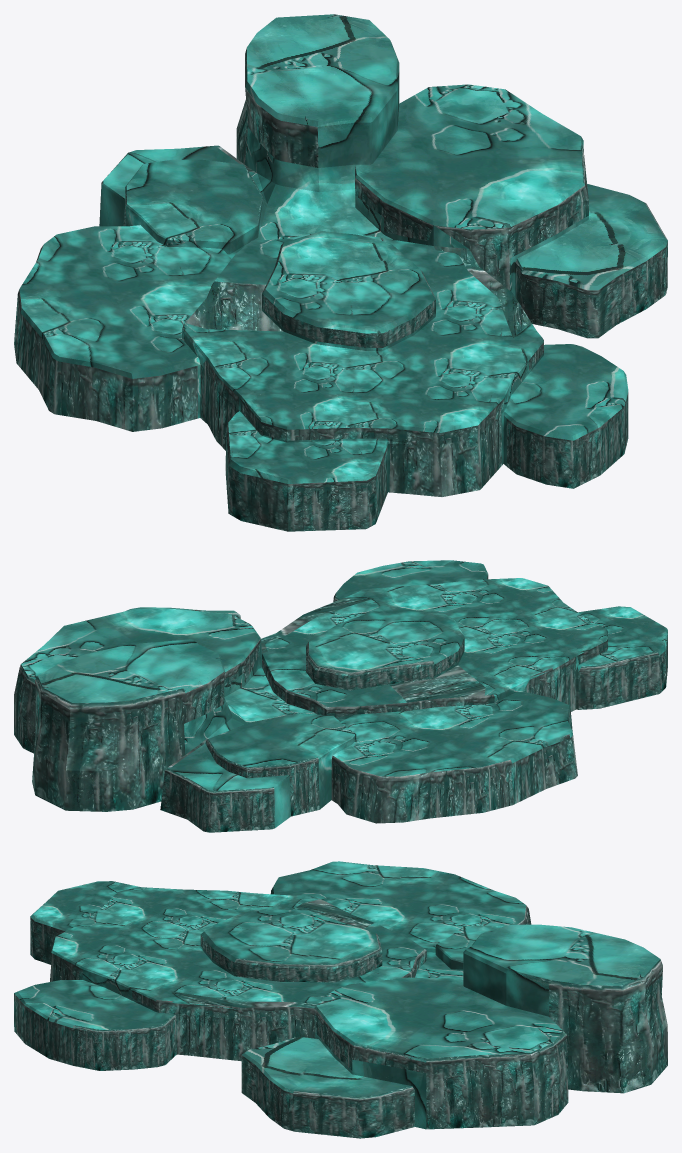
File: site_10.glb
3 renders of one model, top to bottom at view 1: azimuth 30°, elevation 25°; view 2: azimuth 150°, elevation 25°; view 3: azimuth 270°, elevation 25°, orthographic. The views are drawn at different scales.
Parts seen in each view (by area): view 1: CHR_1B.1012_mat_160.001_0, CHR_1B.204_mat_74.003_0; view 2: CHR_1B.1012_mat_160.001_0, CHR_1B.204_mat_74.003_0; view 3: CHR_1B.1012_mat_160.001_0, CHR_1B.204_mat_74.003_0.
Part boxes in pixels (box(x1,y1,x2,y2)): CHR_1B.1012_mat_160.001_0: box(19, 14, 667, 494); CHR_1B.204_mat_74.003_0: box(14, 40, 667, 531); CHR_1B.1012_mat_160.001_0: box(21, 560, 667, 827); CHR_1B.204_mat_74.003_0: box(14, 575, 667, 832); CHR_1B.1012_mat_160.001_0: box(14, 861, 659, 1129); CHR_1B.204_mat_74.003_0: box(14, 892, 667, 1138).
Bounding box in the file's own units: 115 × 26.34 × 135.
Materials: 2 (2 with a texture image).
